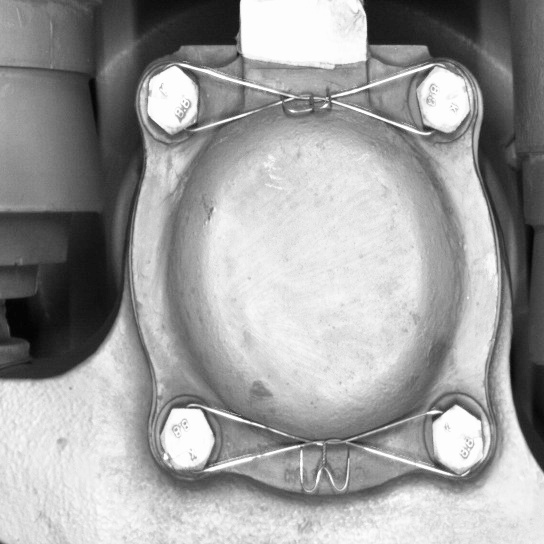IronWire: (150, 391, 498, 483), (136, 58, 476, 143)
Screw: (417, 390, 498, 482), (150, 392, 225, 482), (137, 59, 210, 144), (408, 60, 478, 142)
